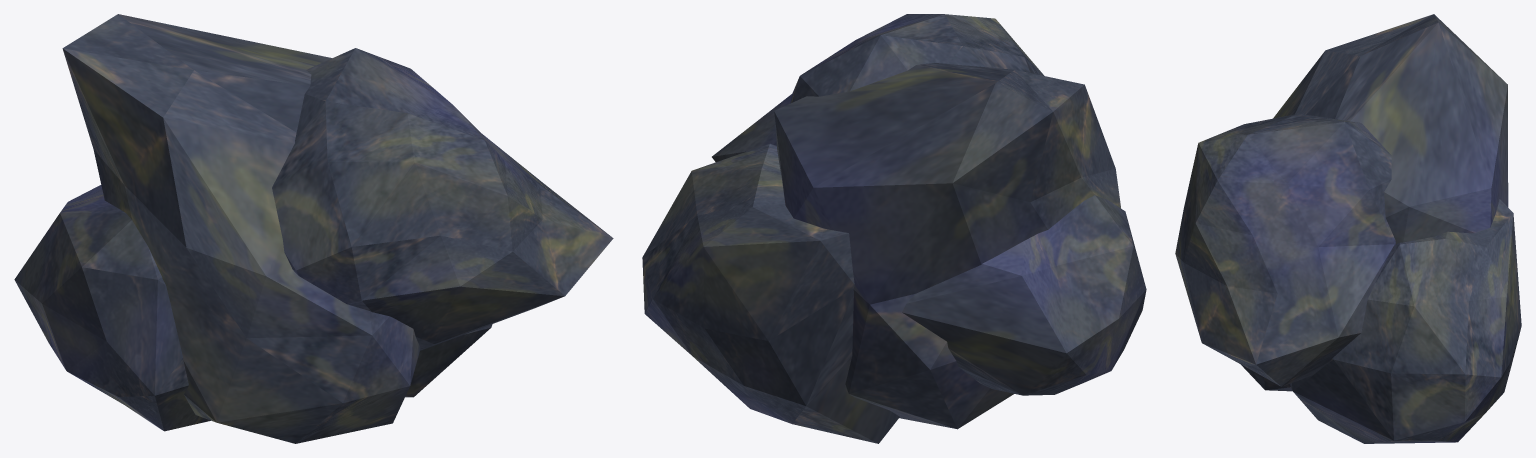
Rendered from MS-Rock04.fbx.
The picture shows the model from 3 angles, left to right: view 1: azimuth 30°, elevation 25°; view 2: azimuth 150°, elevation 25°; view 3: azimuth 270°, elevation 25°; orthographic projection. The views are drawn at different scales.
Visible parts, largest first — view 1: Icosphere.003; view 2: Icosphere.003; view 3: Icosphere.003.
Boxes of the visible parts, x1,y1,x2,y2 form: Icosphere.003: (14,14,613,443); Icosphere.003: (642,14,1146,443); Icosphere.003: (1175,14,1521,443).
Bounding box in the file's own units: 465 × 378 × 354.
